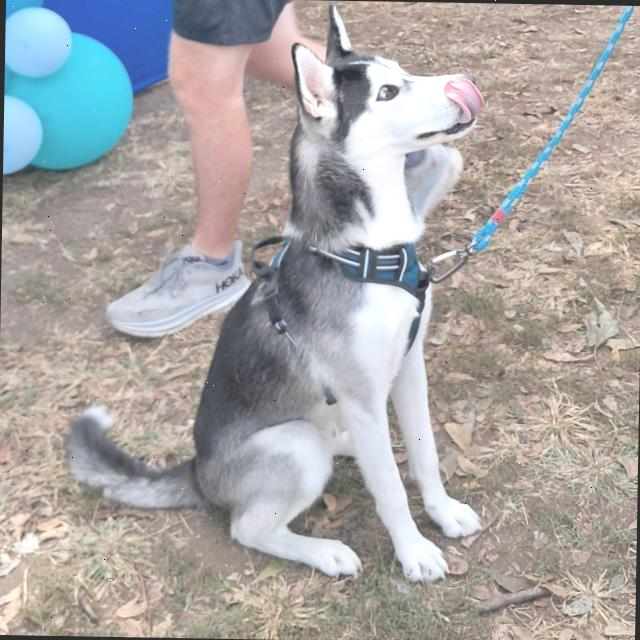siberian_husky_dog: (279, 2, 487, 228)
